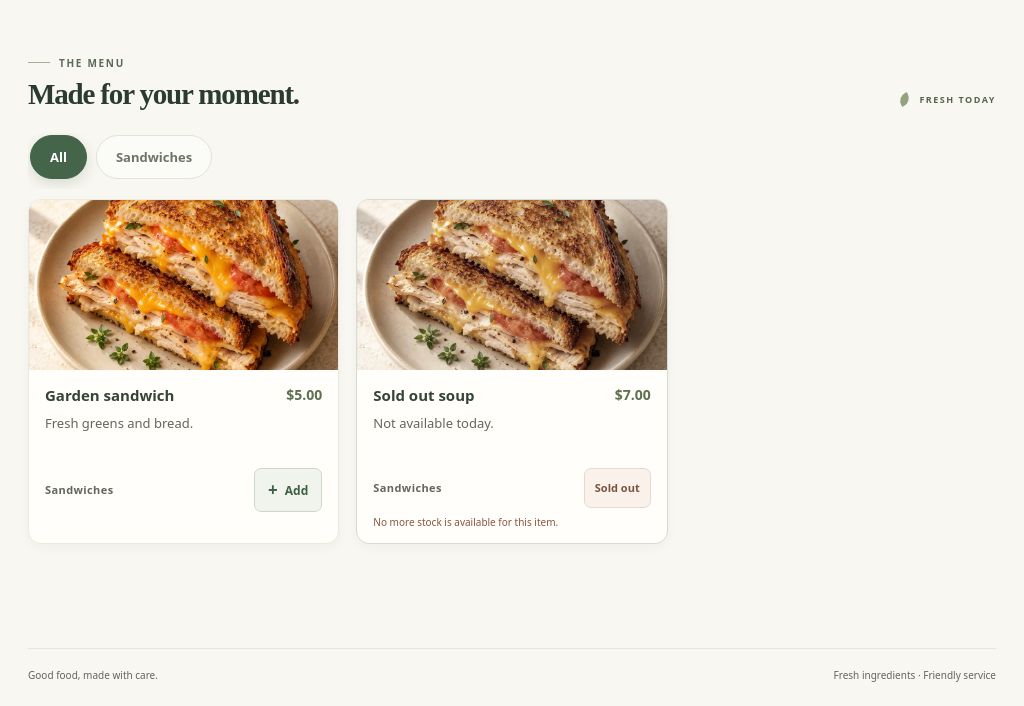
it: checkout client acceptance criteria › AC-Y3 / AC-C6 writes the attempt without card fields and clears it after a terminal result
(page scrolled)
Click the button with aria-label "Add Garden sandwich". click: (288, 490)
box: [254,468,322,512]
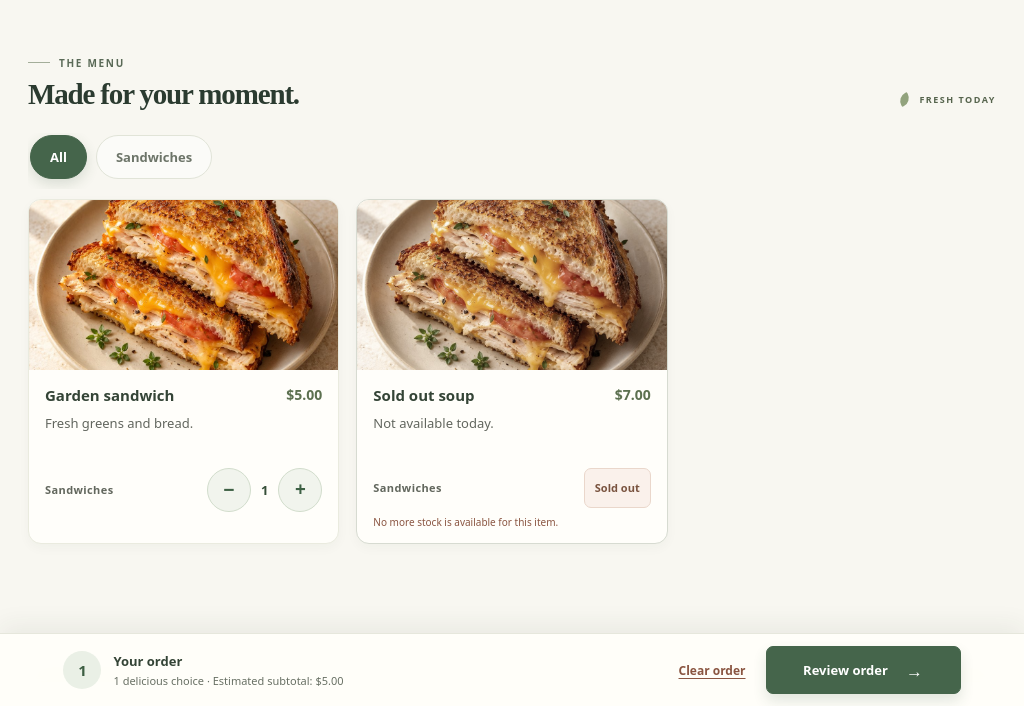
Click the button "Review order →". click: (863, 670)
box: [766,646,960,694]
(page scrolled)
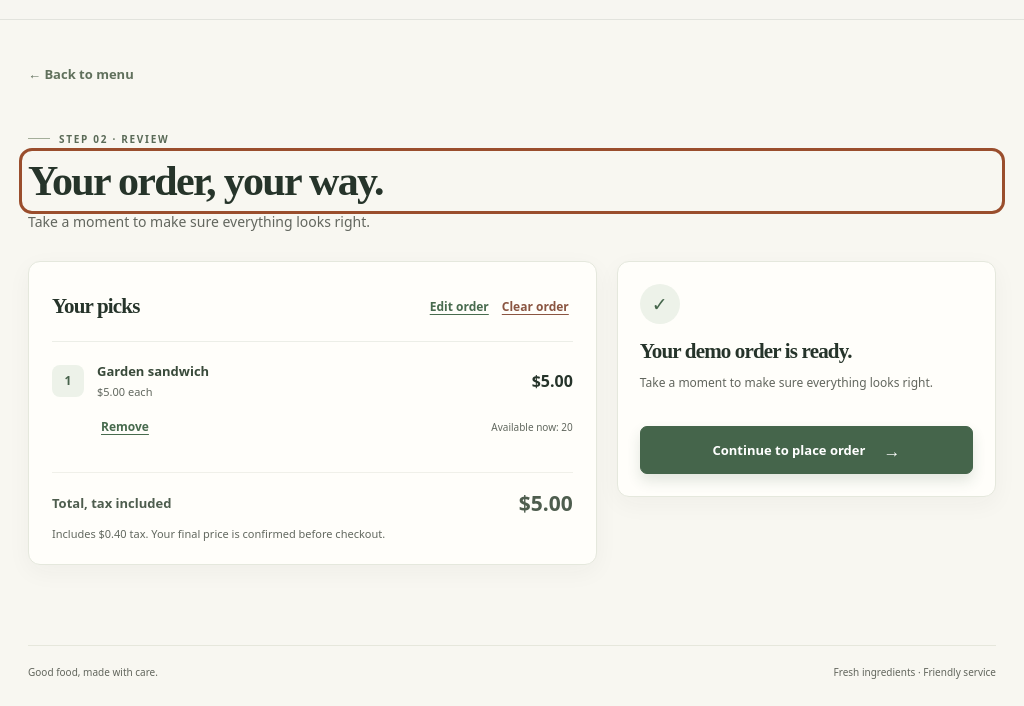
Click the button "Continue to place order →". click: (806, 450)
box: [640,426,973,474]
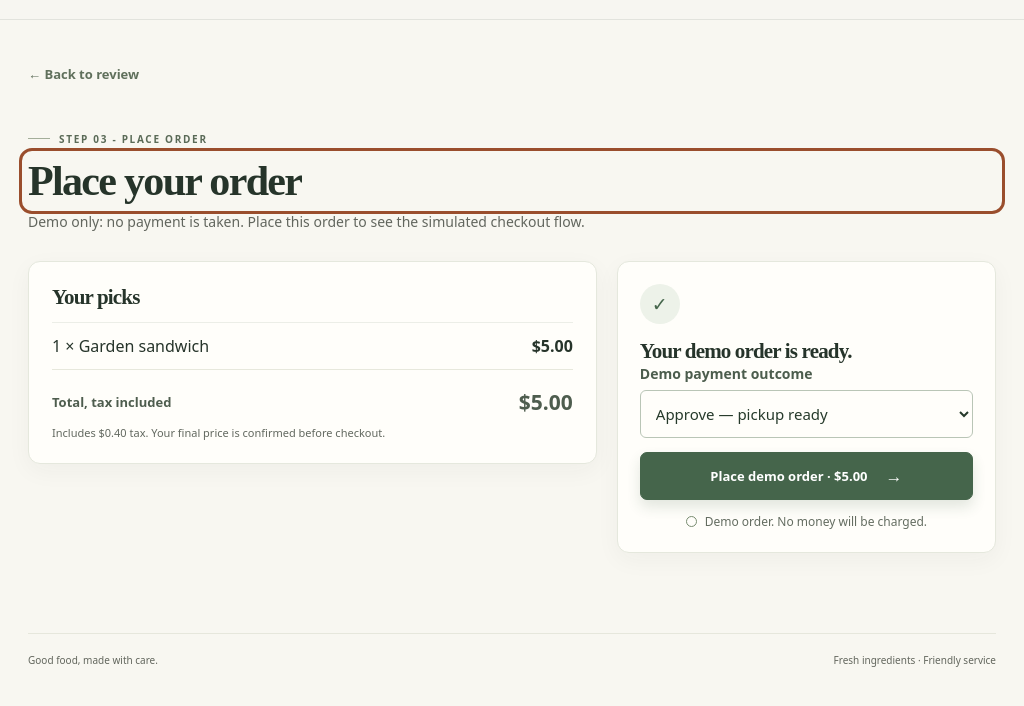
Click the button "Place demo order · $5.00 →". click: (806, 476)
box: [640,452,973,500]
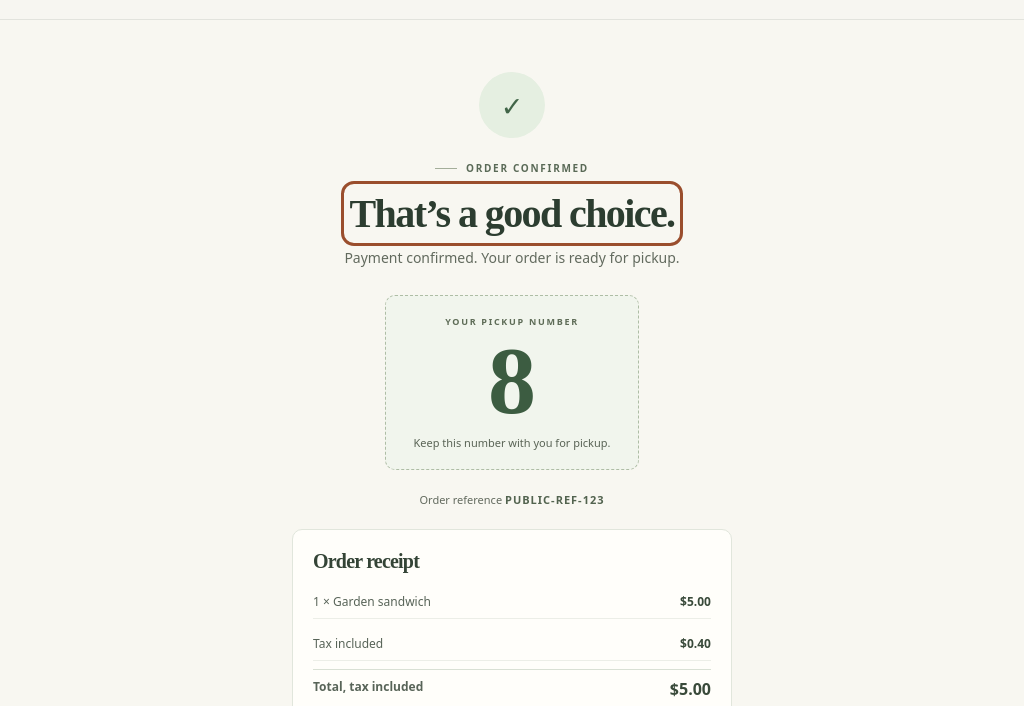
expect the heading "That’s a good choice." is shown: met, box [350,190,674,237]
